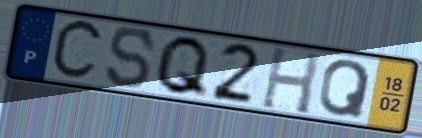2: (210, 41, 262, 108)
C: (47, 17, 107, 83)
H: (258, 44, 323, 117)
Q: (152, 34, 214, 101), (316, 58, 374, 121)
S: (104, 25, 158, 91)
